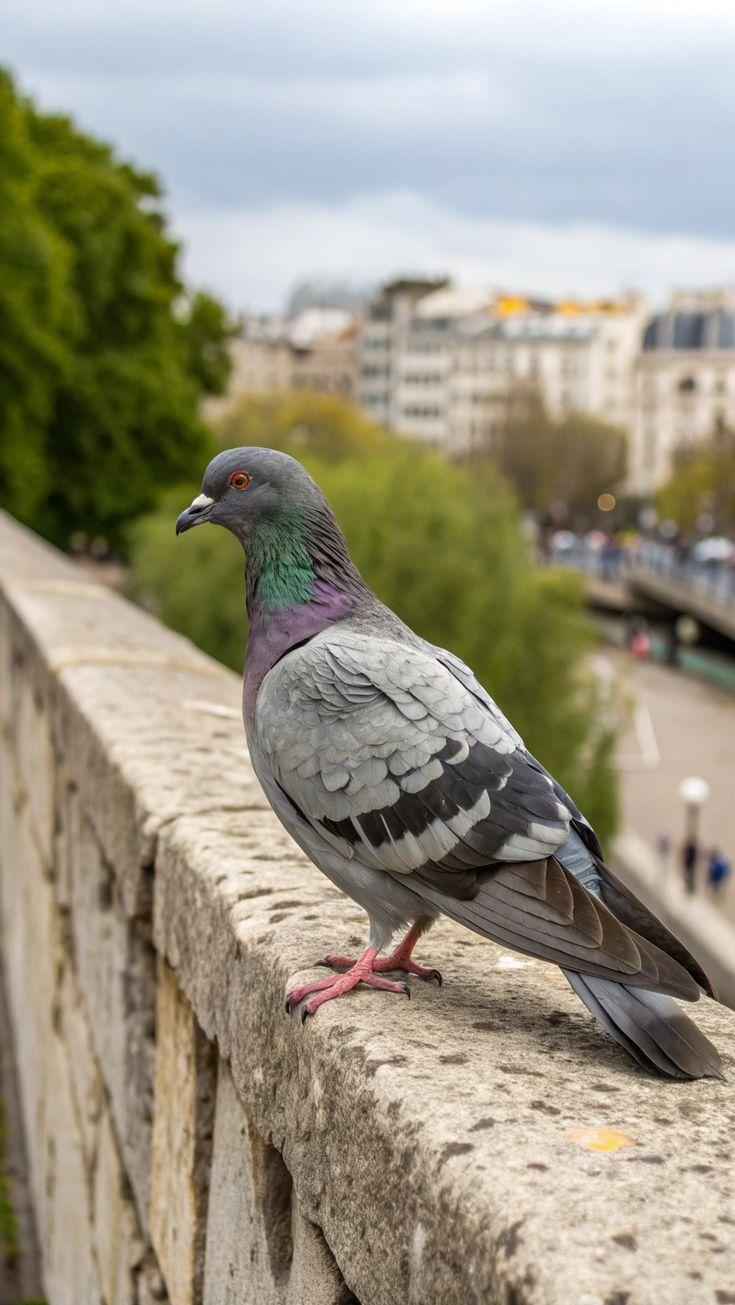pigeon: (176, 447, 721, 1078)
